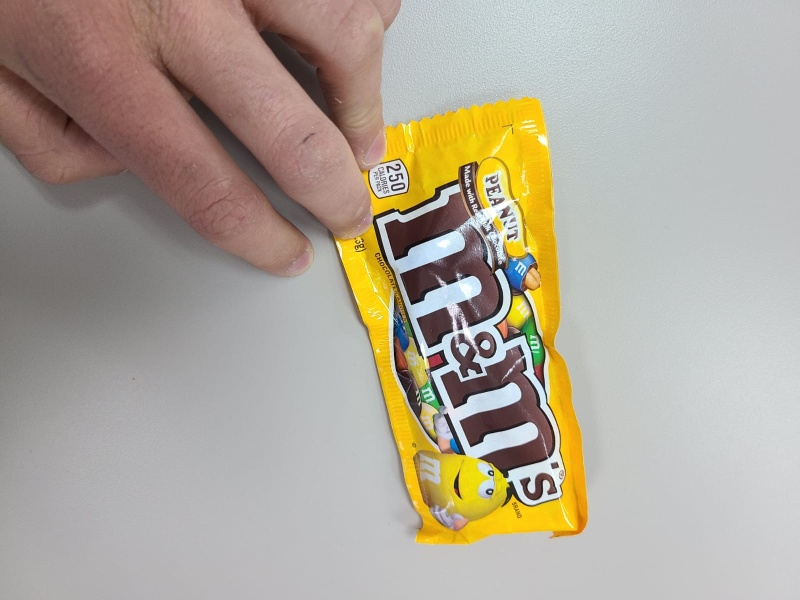m&m: (339, 82, 611, 555)
